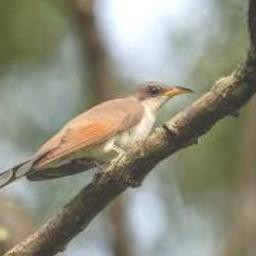Cuckoo: (0, 81, 195, 196)
